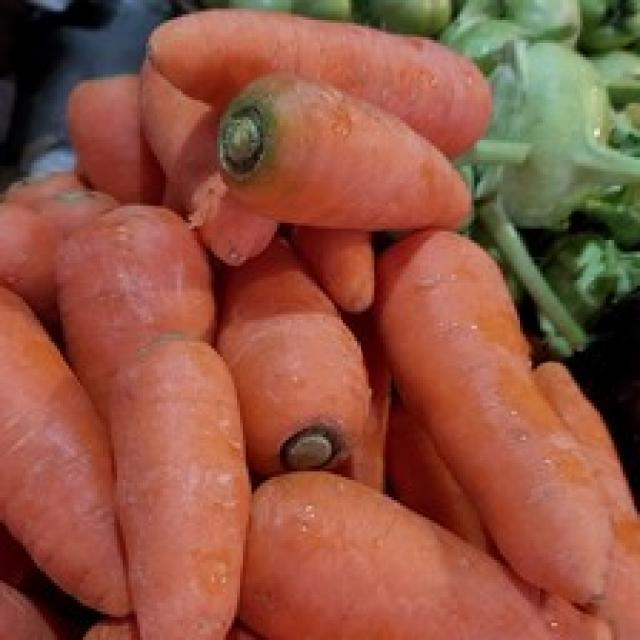Fresh_Carrot: (114, 344, 238, 640)
